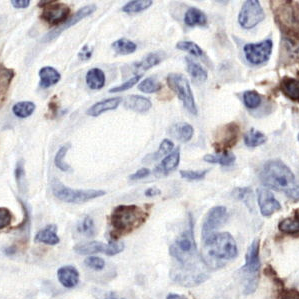Lymphocyte: (110, 202, 151, 238)
